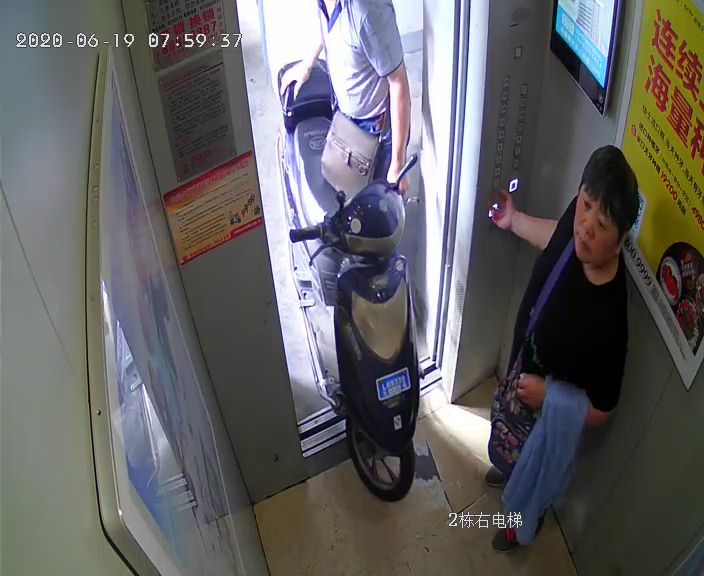Electric-bicycle: (274, 50, 427, 486)
